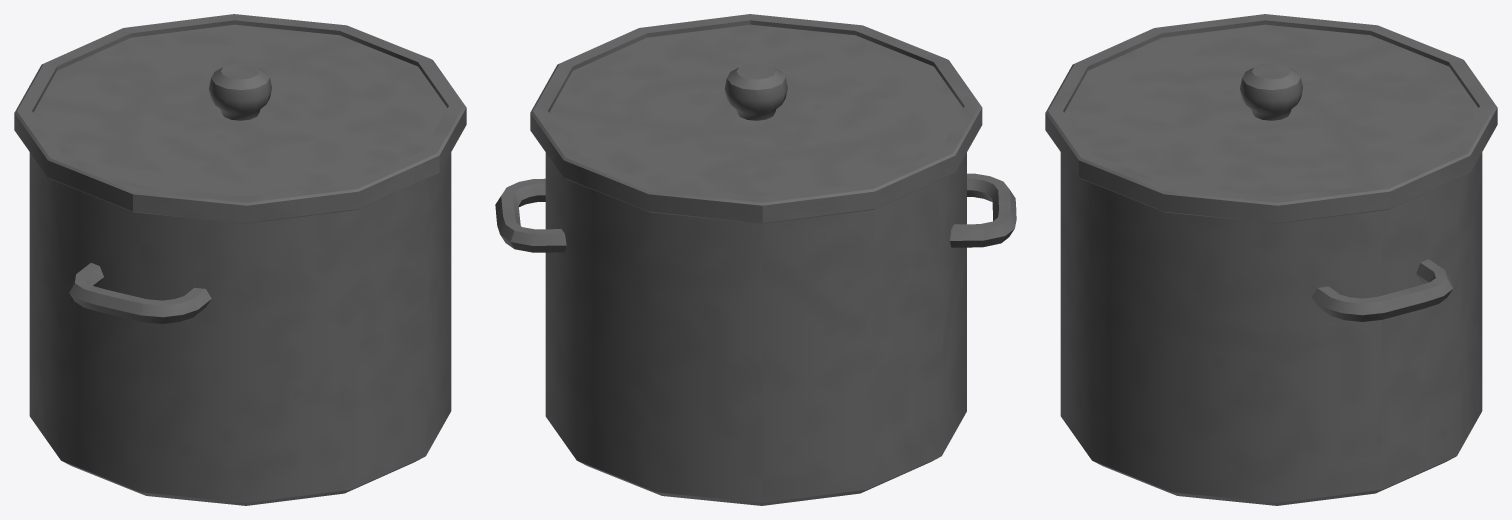
Rendered from Pan.fbx.
3 renders of one model, left to right at view 1: azimuth 30°, elevation 25°; view 2: azimuth 150°, elevation 25°; view 3: azimuth 270°, elevation 25°, orthographic.
Parts seen in each view (by area): view 1: Cylinder.006; view 2: Cylinder.006; view 3: Cylinder.006.
Boxes of the visible parts, x1,y1,x2,y2 form: Cylinder.006: [14, 14, 466, 505]; Cylinder.006: [495, 14, 1016, 505]; Cylinder.006: [1045, 14, 1497, 505].
Size of the model in its own units: 69.32 by 55.4 by 64.71.
